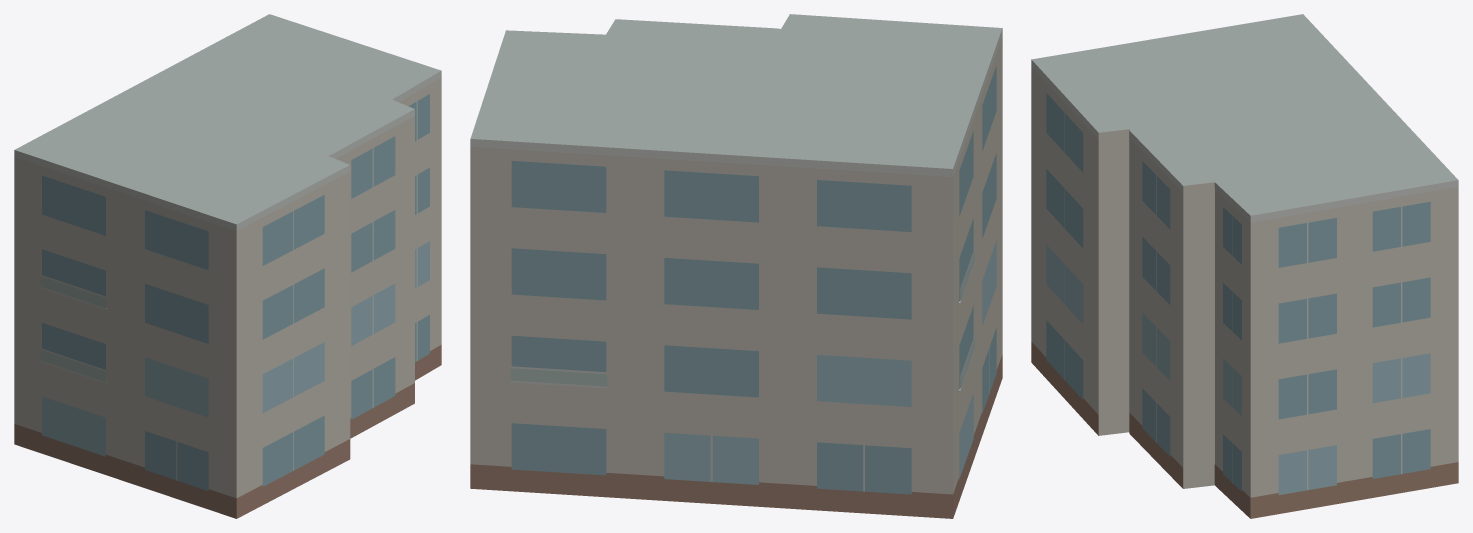
The model's file is survey-upis-32851549.glb.
The picture shows the model from 3 angles, left to right: view 1: azimuth 30°, elevation 25°; view 2: azimuth 150°, elevation 25°; view 3: azimuth 270°, elevation 25°; orthographic projection. The views are drawn at different scales.
Visible parts, largest first — view 1: survey-upis-32851549.tmp; view 2: survey-upis-32851549.tmp; view 3: survey-upis-32851549.tmp.
Part boxes in pixels (x1,y1,x2,y2): survey-upis-32851549.tmp: (14, 14, 441, 518); survey-upis-32851549.tmp: (470, 14, 1002, 518); survey-upis-32851549.tmp: (1031, 14, 1458, 518).
Bounding box in the file's own units: 15.43 × 10.8 × 13.8.
